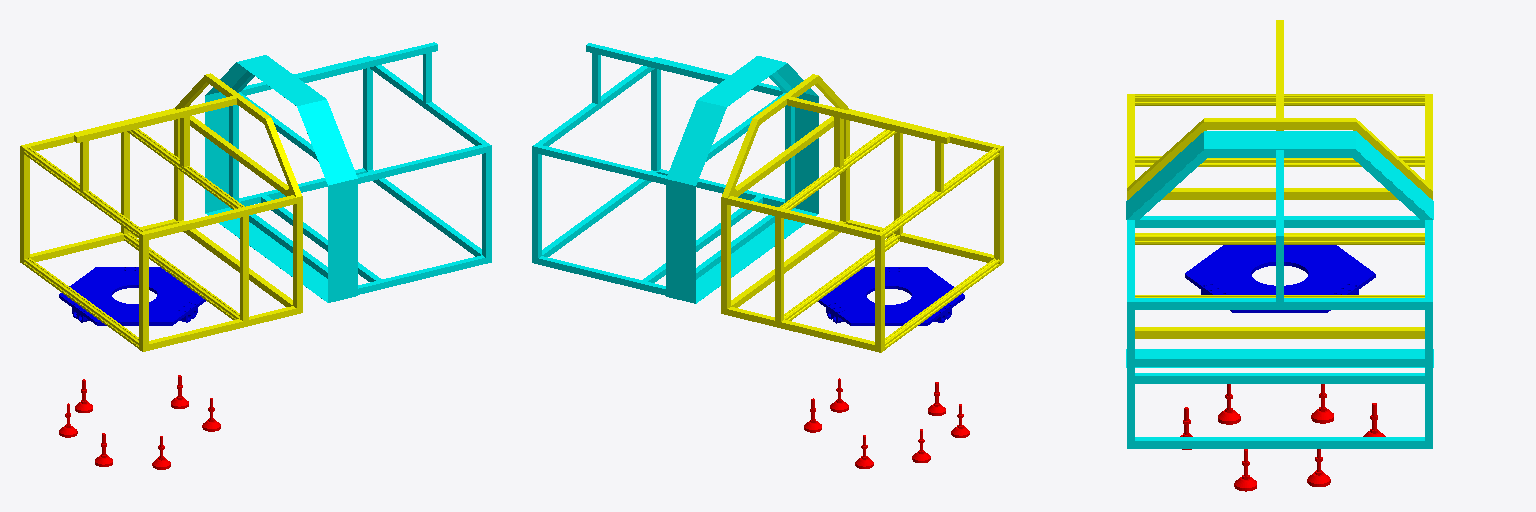
URDF robot description (plane_part):
<?xml version="1.0"?>
<!-- =================================================================================== -->
<!-- |    This document was autogenerated by xacro from
[local-path]/catkin_dtsystem/src/plane_part/urdf/plane_part.urdf.xacro | -->
<!-- |    EDITING THIS FILE BY HAND IS NOT RECOMMENDED                                 | -->
<!-- =================================================================================== -->
<!-- This URDF was automatically created by SolidWorks to URDF Exporter! Originally created by
[author] ([email redacted])
     Commit Version: 1.6.0-4-g7f85cfe  Build Version: 1.6.7995.38578
     For more information, please see http://wiki.ros.org/sw_urdf_exporter -->
<robot name="plane_part">
    <transmission name="trans01">
        <type>transmission_interface/SimpleTransmission</type>
        <joint name="platform_x_joint">
            <hardwareInterface>hardware_interface/PositionJointInterface</hardwareInterface>
        </joint>
        <actuator name="motor01">
            <mechanicalReduction>1</mechanicalReduction>
            <hardwareInterface>hardware_interface/EffortJointInterface</hardwareInterface>
        </actuator>
    </transmission>
    <transmission name="trans02">
        <type>transmission_interface/SimpleTransmission</type>
        <joint name="platform_y_joint">
            <hardwareInterface>hardware_interface/PositionJointInterface</hardwareInterface>
        </joint>
        <actuator name="motor02">
            <mechanicalReduction>1</mechanicalReduction>
            <hardwareInterface>hardware_interface/EffortJointInterface</hardwareInterface>
        </actuator>
    </transmission>
    <transmission name="trans03">
        <type>transmission_interface/SimpleTransmission</type>
        <joint name="platform_z_joint">
            <hardwareInterface>hardware_interface/PositionJointInterface</hardwareInterface>
        </joint>
        <actuator name="motor03">
            <mechanicalReduction>1</mechanicalReduction>
            <hardwareInterface>hardware_interface/EffortJointInterface</hardwareInterface>
        </actuator>
    </transmission>
    <transmission name="trans04">
        <type>transmission_interface/SimpleTransmission</type>
        <joint name="platform_a_joint">
            <hardwareInterface>hardware_interface/PositionJointInterface</hardwareInterface>
        </joint>
        <actuator name="motor04">
            <mechanicalReduction>1</mechanicalReduction>
            <hardwareInterface>hardware_interface/EffortJointInterface</hardwareInterface>
        </actuator>
    </transmission>
    <transmission name="trans05">
        <type>transmission_interface/SimpleTransmission</type>
        <joint name="platform_b_joint">
            <hardwareInterface>hardware_interface/PositionJointInterface</hardwareInterface>
        </joint>
        <actuator name="motor05">
            <mechanicalReduction>1</mechanicalReduction>
            <hardwareInterface>hardware_interface/EffortJointInterface</hardwareInterface>
        </actuator>
    </transmission>
    <transmission name="trans06">
        <type>transmission_interface/SimpleTransmission</type>
        <joint name="platform_c_Joint">
            <hardwareInterface>hardware_interface/PositionJointInterface</hardwareInterface>
        </joint>
        <actuator name="motor06">
            <mechanicalReduction>1</mechanicalReduction>
            <hardwareInterface>hardware_interface/EffortJointInterface</hardwareInterface>
        </actuator>
    </transmission>
    <!--transmission
    name="refer01">
        <type>transmission_interface/SimpleTransmission</type>
        <joint name="reference_Joint">
            <hardwareInterface>hardware_interface/PositionJointInterface</hardwareInterface>
        </joint>
        <actuator name="mesure01">
            <mechanicalReduction>1</mechanicalReduction>
        </actuator>
    </transmission-->
    <!--transmission
    name="trans04_3">
        <type>transmission_interface/SimpleTransmission</type>
        <joint name="clap_roll_joint">
            <hardwareInterface>hardware_interface/PositionJointInterface</hardwareInterface>
        </joint>
        <actuator name="motor04_3">
            <mechanicalReduction>1</mechanicalReduction>
        </actuator>
    </transmission-->
    <gazebo reference="base_link">
        <material>Gazebo/Orange</material>
        <plugin name="gazebo_ros_control">
            <robotNamespace>/</robotNamespace>
        </plugin>
    </gazebo>
    <gazebo reference="bottom_Link">
        <material>Gazebo/Red</material>
    </gazebo>
    <gazebo reference="platform_Link">
        <material>Gazebo/Blue</material>
    </gazebo>
    <gazebo reference="reference_Link">
        <material>Gazebo/Black</material>
    </gazebo>
    <!--ros
    control plugin-->
    <gazebo>
        <plugin filename="libgazebo_ros_control.so" name="gazebo_ros_control">
            <robotNamespace>/</robotNamespace>
            <robotParam>/robot_description</robotParam>
            <robotSimType>gazebo_ros_control/DefaultRobotHWSim</robotSimType>
        </plugin>
    </gazebo>
    <material name="black">
        <color rgba="0.0 0.0 0.0 1.0" />
    </material>
    <material name="blue">
        <color rgba="0.0 0.0 0.8 1.0" />
    </material>
    <material name="green">
        <color rgba="0.0 0.8 0.0 1.0" />
    </material>
    <material name="grey">
        <color rgba="0.2 0.2 0.2 1.0" />
    </material>
    <material name="orange">
        <color rgba="1.0 0.4235294117647059 0.0392156862745098 1.0" />
    </material>
    <material name="brown">
        <color rgba="0.8705882352941177 0.8117647058823529 0.7647058823529411 1.0" />
    </material>
    <material name="red">
        <color rgba="0.8 0.0 0.0 1.0" />
    </material>
    <material name="white">
        <color rgba="1.0 1.0 1.0 1.0" />
    </material>
    <material name="yellow">
        <color rgba="1.0 1.0 0.0 1.0" />
    </material>
    <material name="chocolate">
        <color rgba="0.8235294117647058 0.4117647058823529 0.11764705882352941 1.0" />
    </material>
    <material name="purple">
        <color rgba="0.5019607843137255 0.0 0.5019607843137255 1.0" />
    </material>
    <link name="world" />
    <link name="base_link">
        <inertial>
            <origin rpy="0 0 0" xyz="0.00014734 -0.0013249 -0.027719" />
            <mass value="0.90493" />
            <inertia ixx="0.0011428" ixy="-1.8056E-35" ixz="-1.8016E-20" iyy="0.0011428"
                iyz="1.7948E-20" izz="0.00050332" />
        </inertial>
        <visual>
            <origin rpy="0 0 0" xyz="0 0 0" />
            <geometry>
                <mesh filename="package://plane_part/meshes/base_link.STL" />
            </geometry>
            <material name="">
                <color rgba="1 0 0 1" />
            </material>
        </visual>
        <collision>
            <origin rpy="0 0 0" xyz="0 0 0" />
            <geometry>
                <mesh filename="package://plane_part/meshes/base_link.STL" />
            </geometry>
        </collision>
    </link>
    <joint name="world_base" type="fixed">
        <origin rpy="0.0 0.0 0.0" xyz="0.0 0.0 0.2" />
        <parent link="world" />
        <child link="base_link" />
    </joint>
    <link name="bottom_Link">
        <inertial>
            <origin rpy="0 0 0" xyz="0.071702 1.7942E-05 0.0058498" />
            <mass value="91.018" />
            <inertia ixx="6.4041" ixy="-5.4882E-05" ixz="-3.6045E-06" iyy="6.3339" iyz="-1.8817E-05"
                izz="12.526" />
        </inertial>
        <visual>
            <origin rpy="0 0 0" xyz="0 0 0" />
            <geometry>
                <mesh filename="package://plane_part/meshes/bottom_Link.STL" />
            </geometry>
            <material name="">
                <color rgba="0 1 0 1" />
            </material>
        </visual>
        <collision>
            <origin rpy="0 0 0" xyz="0 0 0" />
            <geometry>
                <mesh filename="package://plane_part/meshes/bottom_Link.STL" />
            </geometry>
        </collision>
    </link>
    <joint name="bottom_joint" type="fixed">
        <origin rpy="0 0 0" xyz="0 0 0" />
        <parent link="base_link" />
        <child link="bottom_Link" />
        <axis xyz="1 0 0" />
    </joint>
    <link name="platform_x_Link">
        <inertial>
            <origin rpy="0.0 0.0 0.0" xyz="0.0 0.0 0.0" />
            <mass value="1" />
            <inertia ixx="1" ixy="0.0" ixz="0.0" iyy="1" iyz="0.0" izz="1" />
        </inertial>
    </link>
    <joint name="platform_x_joint" type="prismatic">
        <origin rpy="0 0 0" xyz="0 0 0.61449" />
        <parent link="bottom_Link" />
        <child link="platform_x_Link" />
        <axis xyz="1 0 0" />
        <limit effort="10000.0" lower="-0.3" upper="0.3" velocity="0.1" />
    </joint>
    <link name="platform_y_Link">
        <inertial>
            <origin rpy="0.0 0.0 0.0" xyz="0.0 0.0 0.0" />
            <mass value="1" />
            <inertia ixx="1" ixy="0.0" ixz="0.0" iyy="1" iyz="0.0" izz="1" />
        </inertial>
    </link>
    <joint name="platform_y_joint" type="prismatic">
        <origin rpy="0 0 0" xyz="0 0 0" />
        <parent link="platform_x_Link" />
        <child link="platform_y_Link" />
        <axis xyz="0 1 0" />
        <limit effort="10000.0" lower="-0.3" upper="0.3" velocity="0.1" />
    </joint>
    <link name="platform_z_Link">
        <inertial>
            <origin rpy="0.0 0.0 0.0" xyz="0.0 0.0 0.0" />
            <mass value="1" />
            <inertia ixx="1" ixy="0.0" ixz="0.0" iyy="1" iyz="0.0" izz="1" />
        </inertial>
    </link>
    <joint name="platform_z_joint" type="prismatic">
        <origin rpy="0 0 0" xyz="0 0 0" />
        <parent link="platform_y_Link" />
        <child link="platform_z_Link" />
        <axis xyz="0 0 1" />
        <limit effort="10000.0" lower="-0.3" upper="0.3" velocity="0.1" />
    </joint>
    <link name="platform_a_Link">
        <inertial>
            <origin rpy="0.0 0.0 0.0" xyz="0.0 0.0 0.0" />
            <mass value="1" />
            <inertia ixx="1" ixy="0.0" ixz="0.0" iyy="1" iyz="0.0" izz="1" />
        </inertial>
    </link>
    <joint name="platform_a_joint" type="revolute">
        <origin rpy="0 0 0" xyz="0 0 0" />
        <parent link="platform_z_Link" />
        <child link="platform_a_Link" />
        <axis xyz="1 0 0" />
        <limit effort="10000.0" lower="-0.3" upper="0.3" velocity="0.1" />
    </joint>
    <link name="platform_b_Link">
        <inertial>
            <origin rpy="0.0 0.0 0.0" xyz="0.0 0.0 0.0" />
            <mass value="1" />
            <inertia ixx="1" ixy="0.0" ixz="0.0" iyy="1" iyz="0.0" izz="1" />
        </inertial>
    </link>
    <joint name="platform_b_joint" type="revolute">
        <origin rpy="0 0 0" xyz="0 0 0" />
        <parent link="platform_a_Link" />
        <child link="platform_b_Link" />
        <axis xyz="0 1 0" />
        <limit effort="10000.0" lower="-0.3" upper="0.3" velocity="0.1" />
    </joint>
    <link name="platform_Link">
        <inertial>
            <origin rpy="0 0 0" xyz="0.0016018 0.0014397 -0.0097437" />
            <mass value="4.3742" />
            <inertia ixx="0.095075" ixy="-2.0348E-11" ixz="6.0005E-11" iyy="0.094958"
                iyz="1.164E-11" izz="0.18974" />
        </inertial>
        <visual>
            <origin rpy="0 0 0" xyz="0 0 0" />
            <geometry>
                <mesh filename="package://plane_part/meshes/platform_Link.STL" />
            </geometry>
            <material name="">
                <color rgba="0 0 1 1" />
            </material>
        </visual>
        <collision>
            <origin rpy="0 0 0" xyz="0 0 0" />
            <geometry>
                <mesh filename="package://plane_part/meshes/platform_Link.STL" />
            </geometry>
        </collision>
    </link>
    <joint name="platform_c_Joint" type="revolute">
        <origin rpy="0 0 0" xyz="0 0 0" />
        <parent link="platform_b_Link" />
        <child link="platform_Link" />
        <axis xyz="0 0 1" />
        <limit effort="10000.0" lower="-0.3" upper="0.3" velocity="0.1" />
    </joint>
    <link name="modulating_Link">
        <inertial>
            <origin rpy="0 0 0" xyz="0.46708 -6.9672E-07 -0.18298" />
            <mass value="11.25" />
            <inertia ixx="0.40589" ixy="1.2212E-15" ixz="1.6631E-13" iyy="0.28426" iyz="1.2524E-15"
                izz="0.50773" />
        </inertial>
        <visual>
            <origin rpy="0 0 0" xyz="0 0 0" />
            <geometry>
                <mesh filename="package://plane_part/meshes/modulating_Link.STL" />
            </geometry>
            <material name="">
                <color rgba="1 1 0 1" />
            </material>
        </visual>
        <collision>
            <origin rpy="0 0 0" xyz="0 0 0" />
            <geometry>
                <mesh filename="package://plane_part/meshes/modulating_Link.STL" />
            </geometry>
        </collision>
    </link>
    <joint name="modulating_Joint" type="fixed">
        <origin rpy="0 0 0" xyz="-0.236 0 0.56" />
        <parent link="platform_Link" />
        <child link="modulating_Link" />
        <axis xyz="1 0 0" />
    </joint>
    <link name="reference_Link">
        <inertial>
            <origin rpy="0 0 0" xyz="-0.36224 -7.2789E-07 -0.21599" />
            <mass value="10.768" />
            <inertia ixx="0.43054" ixy="-4.8572E-17" ixz="3.0383E-17" iyy="0.17237" iyz="2.6573E-17"
                izz="0.51657" />
        </inertial>
        <visual>
            <origin rpy="0 0 0" xyz="0 0 0" />
            <geometry>
                <mesh filename="package://plane_part/meshes/reference_Link.STL" />
            </geometry>
            <material name="">
                <color rgba="0 1 1 1" />
            </material>
        </visual>
        <collision>
            <origin rpy="0 0 0" xyz="0 0 0" />
            <geometry>
                <mesh filename="package://plane_part/meshes/reference_Link.STL" />
            </geometry>
        </collision>
    </link>
    <joint name="reference_Joint" type="fixed">
        <origin rpy="0 0 0" xyz="1.4503 0 1.1964" />
        <parent link="bottom_Link" />
        <child link="reference_Link" />
        <axis xyz="1 0 0" />
    </joint>
</robot>

--- Render facts (derived) ---
The picture shows the robot from 3 angles, left to right: view 1: azimuth 30°, elevation 25°; view 2: azimuth 150°, elevation 25°; view 3: azimuth 270°, elevation 25°; orthographic projection.
Model plane_part with 11 links and 10 joints (3 revolute, 3 prismatic, 4 fixed), rooted at world, posed every joint at zero.
Links seen in each view (by area): view 1: reference_Link, modulating_Link, platform_Link, base_link; view 2: reference_Link, modulating_Link, platform_Link, base_link; view 3: reference_Link, modulating_Link, platform_Link, base_link.
Boxes of the visible links, x1,y1,x2,y2 form: reference_Link: [205, 42, 491, 302]; modulating_Link: [20, 73, 302, 351]; platform_Link: [59, 267, 205, 325]; base_link: [59, 375, 220, 469]; reference_Link: [532, 43, 818, 303]; modulating_Link: [721, 74, 1003, 352]; platform_Link: [818, 267, 964, 325]; base_link: [804, 378, 969, 468]; reference_Link: [1126, 131, 1433, 448]; modulating_Link: [1127, 20, 1432, 338]; platform_Link: [1185, 245, 1375, 312]; base_link: [1180, 384, 1385, 491].
Size in the robot's own frame: 1.81 by 1.06 by 1.53 metres.
4 mesh visuals loaded from 5 distinct referenced files (4 binary STL); not drawn: 1 (reference not matched to a file when rendering).